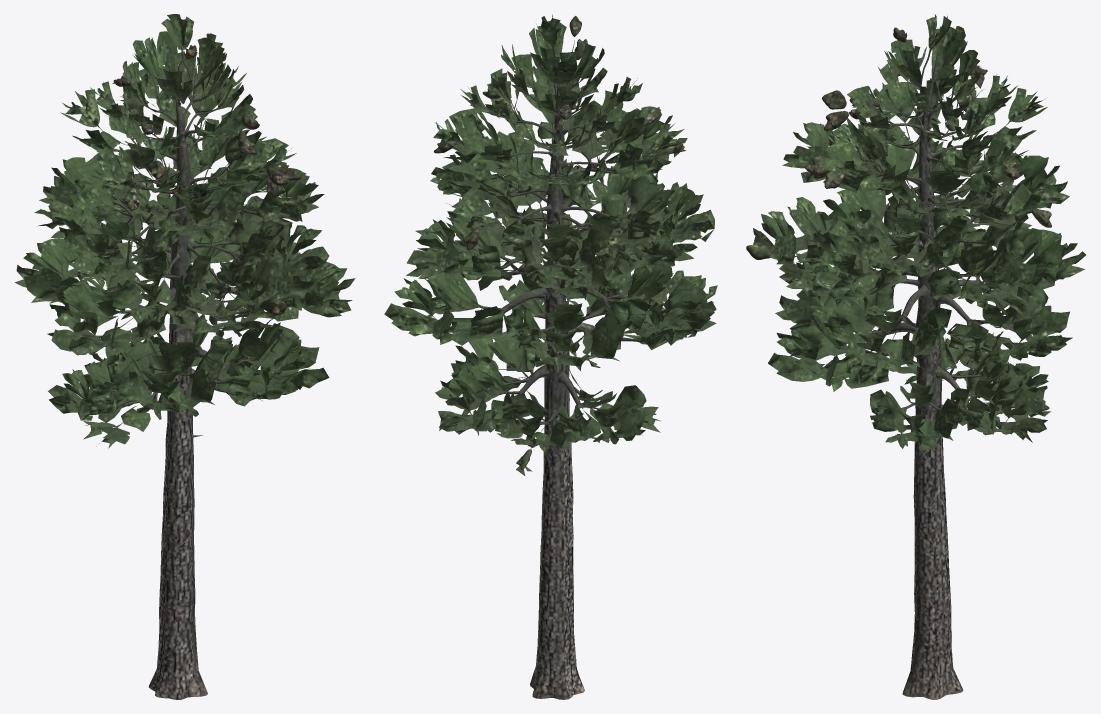
The model's file is tree.glb.
The picture shows the model from 3 angles, left to right: view 1: azimuth 30°, elevation 25°; view 2: azimuth 150°, elevation 25°; view 3: azimuth 270°, elevation 25°; orthographic projection.
Visible parts, largest first — view 1: tripo_node_a7d0729d-1e6e-484a-bb20-d153e151f9f2; view 2: tripo_node_a7d0729d-1e6e-484a-bb20-d153e151f9f2; view 3: tripo_node_a7d0729d-1e6e-484a-bb20-d153e151f9f2.
Boxes of the visible parts, box(x1,y1,x2,y2) form: tripo_node_a7d0729d-1e6e-484a-bb20-d153e151f9f2: box(14, 14, 355, 699); tripo_node_a7d0729d-1e6e-484a-bb20-d153e151f9f2: box(384, 14, 717, 699); tripo_node_a7d0729d-1e6e-484a-bb20-d153e151f9f2: box(746, 14, 1085, 699).
Size of the model in its own units: 0.4438 by 0.9995 by 0.4585.
Materials: 1 (1 with a texture image).
